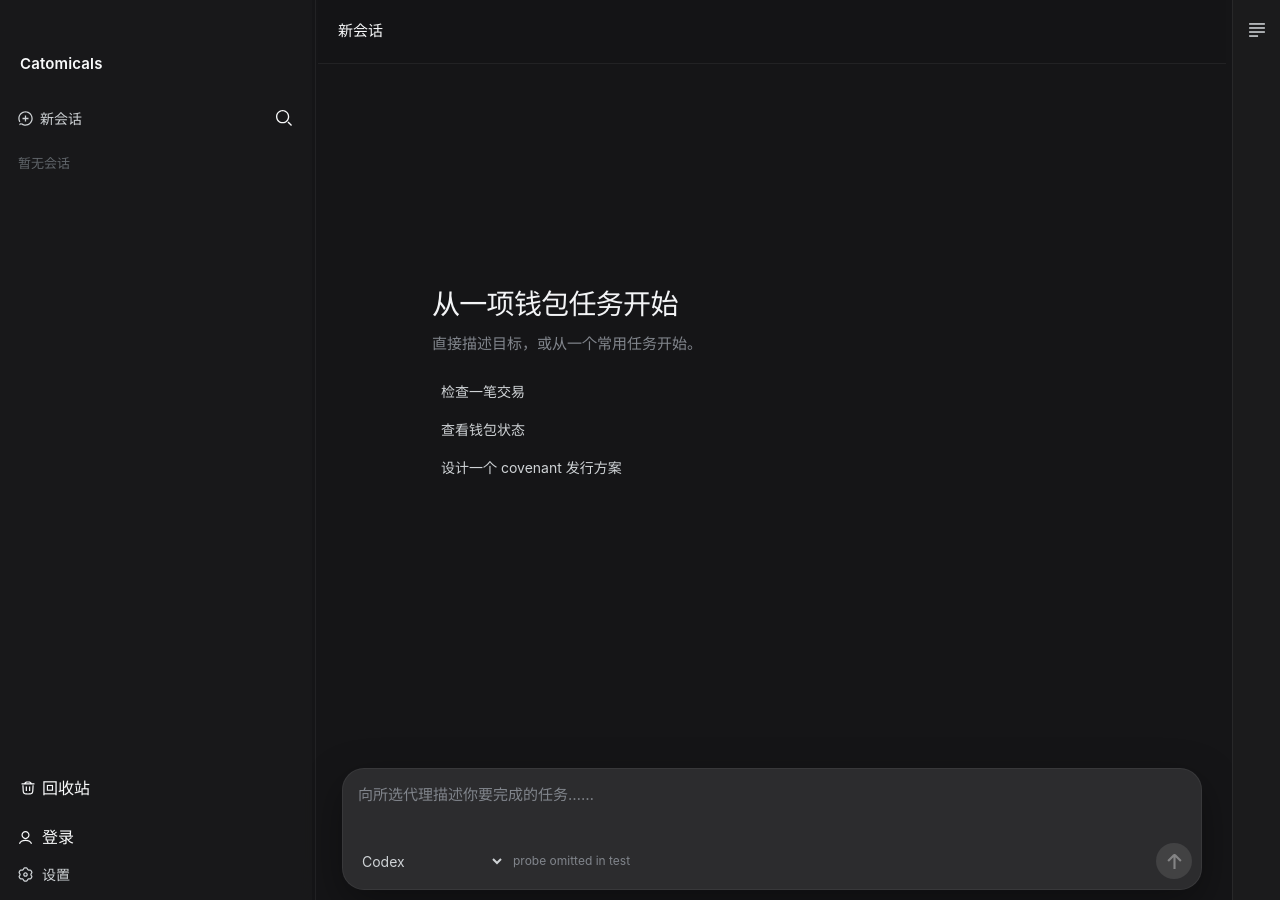
Scenario: session-backed conversation › shows lightweight starter prompts only while the transcript is empty
Expected: the heading "从一项钱包任务开始" is shown, [432,287,678,321]
Expected: the text "直接描述目标，或从一个常用任务开始。" is shown, [432,334,702,353]
Click the button "检查一笔交易" at [483, 391], box [432,373,534,409]
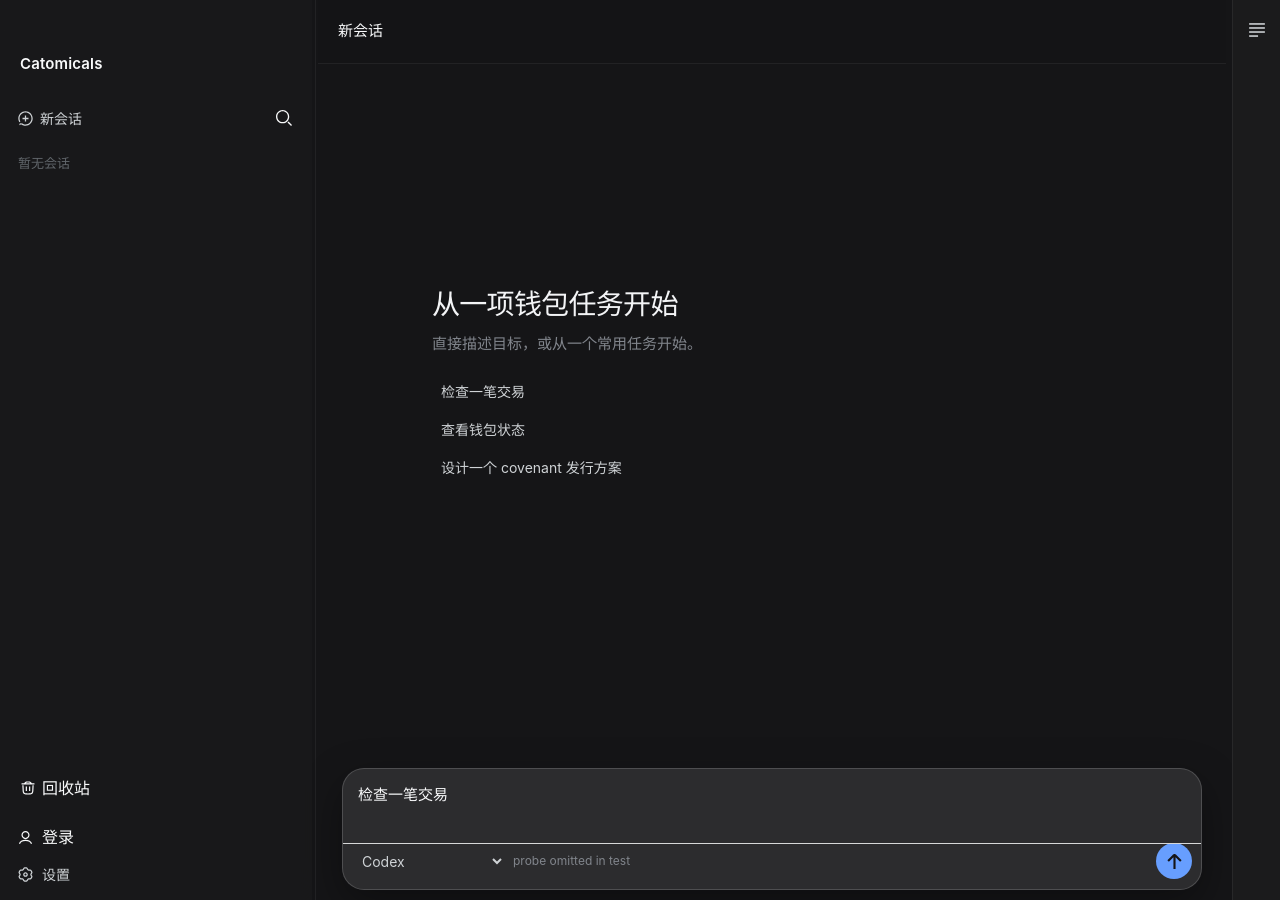
Expected: the text box with placeholder "向所选代理描述你要完成的任务……" holds "检查一笔交易", [343,769,1201,841]
Click the button named "发送消息" at [1174, 861], box [1156,843,1192,879]
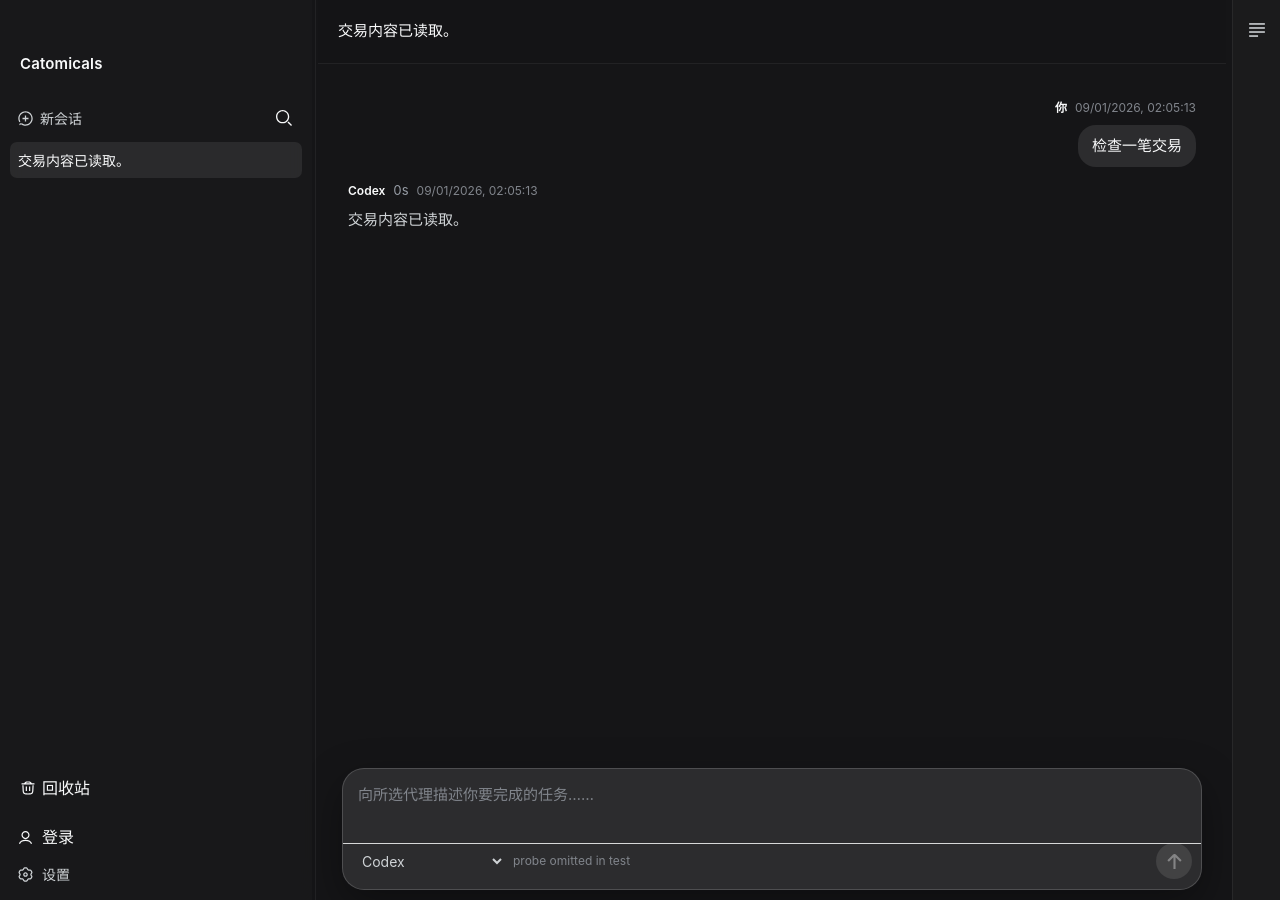
Expected: the element showing "Codex 0s 09/01/2026, 02:05:13 交易内容已读取。" is shown, [348,182,538,228]
Expected: the heading "从一项钱包任务开始" is gone
